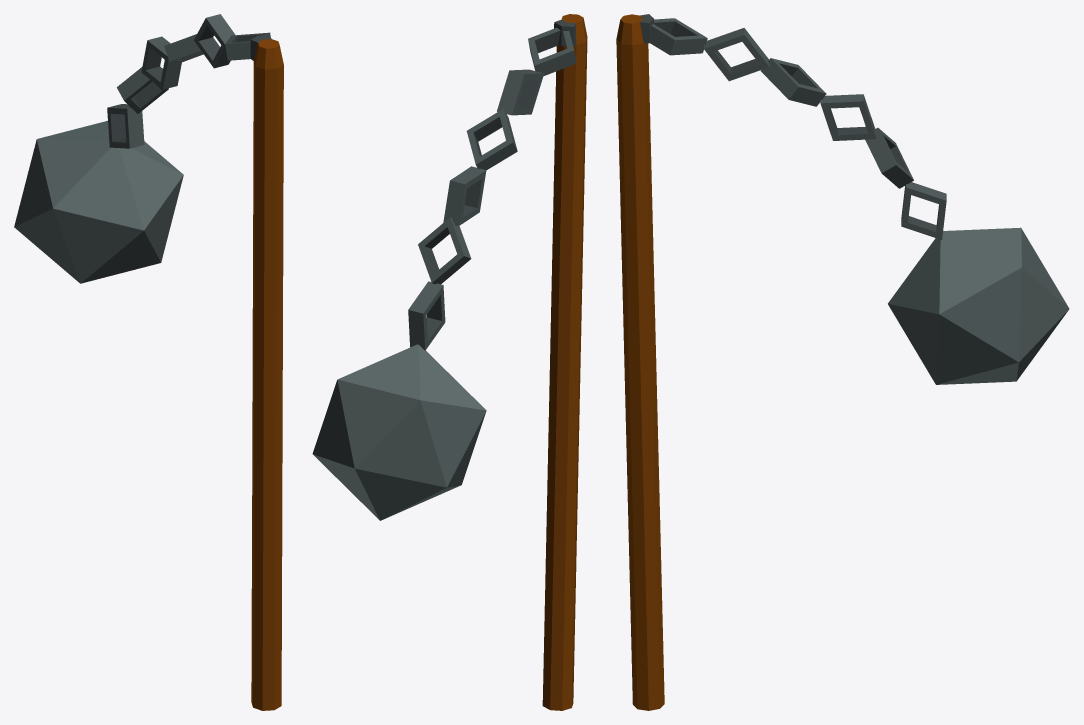
The model's file is Mace1.fbx.
The picture shows the model from 3 angles, left to right: view 1: azimuth 30°, elevation 25°; view 2: azimuth 150°, elevation 25°; view 3: azimuth 270°, elevation 25°; orthographic projection. The views are drawn at different scales.
Parts seen in each view (by area): view 1: mace handle; view 2: mace handle; view 3: mace handle.
Part boxes in pixels (x1,y1,x2,y2): mace handle: (14, 14, 283, 710); mace handle: (312, 14, 587, 710); mace handle: (616, 14, 1069, 710).
Size of the model in its own units: 0.2028 by 0.5932 by 0.9864.
